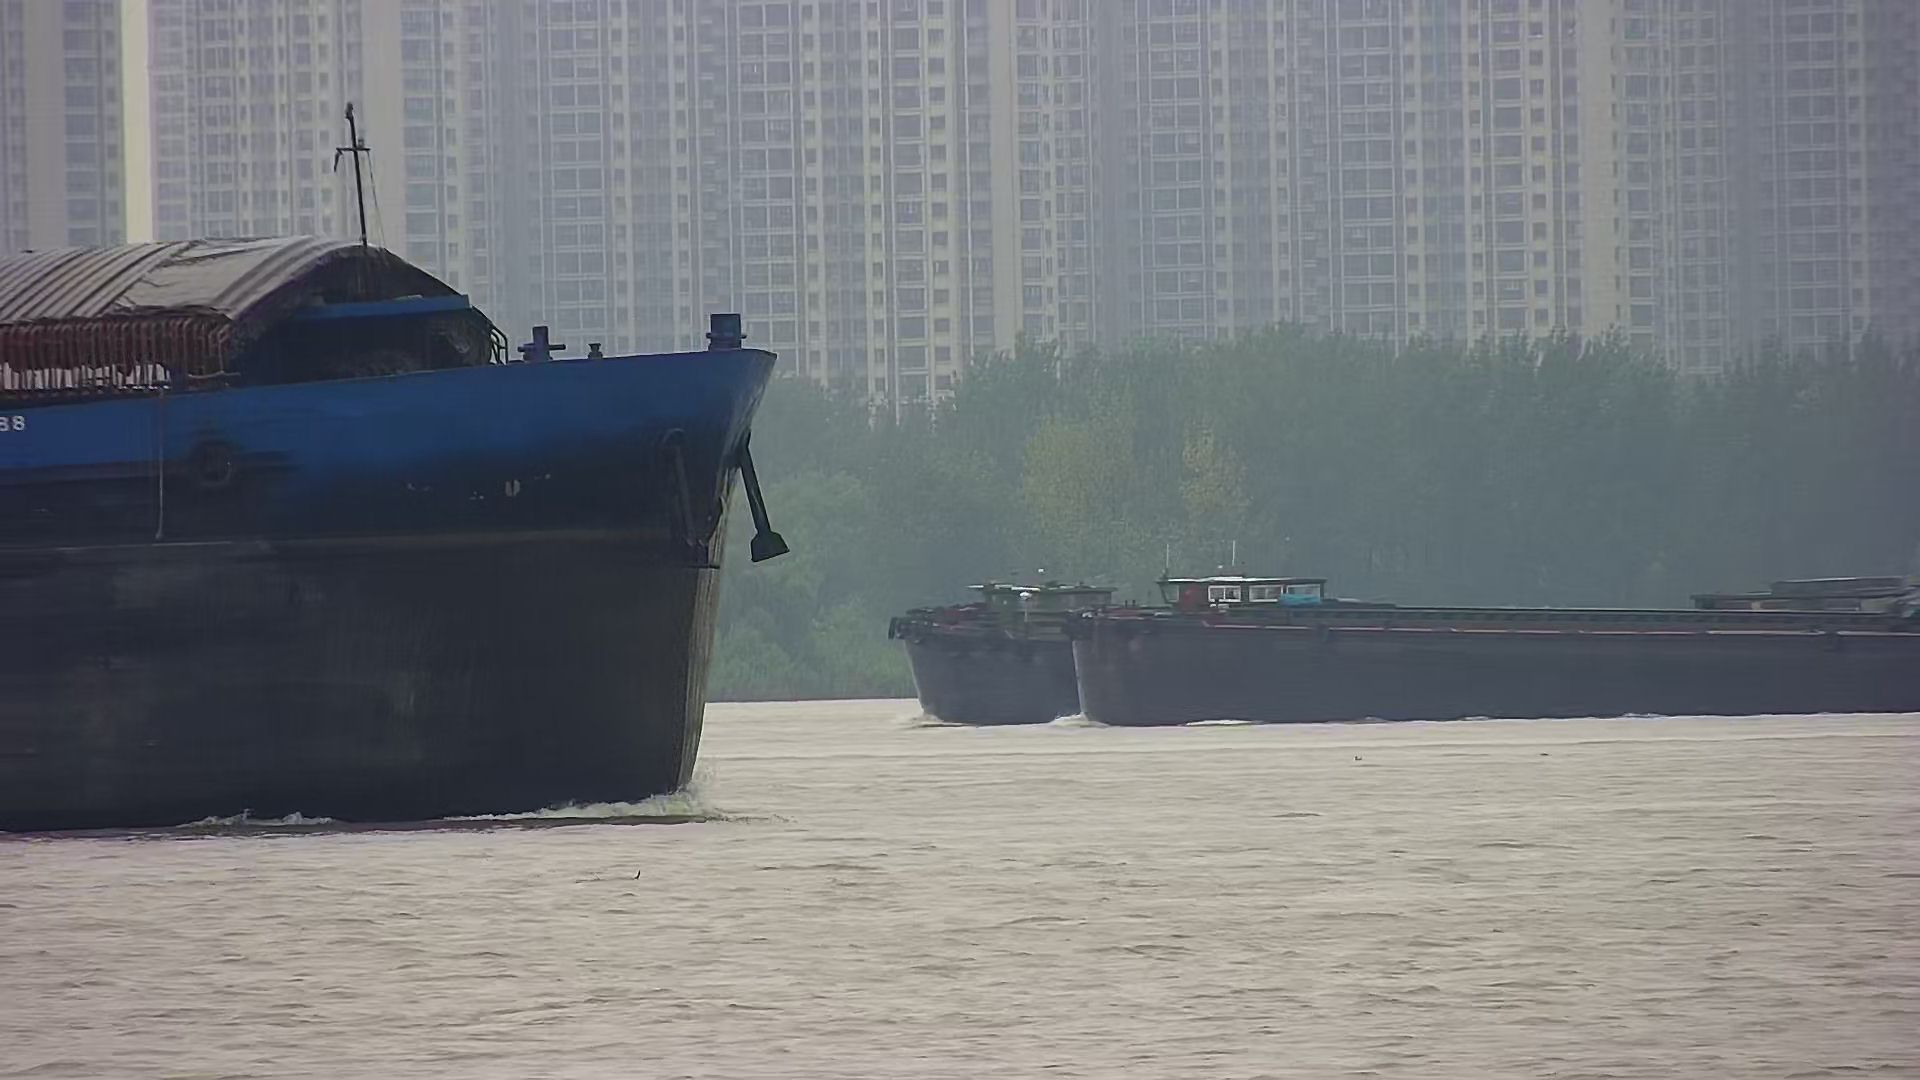ship: (1, 100, 791, 837), (886, 576, 1920, 727), (1069, 563, 1920, 728)
